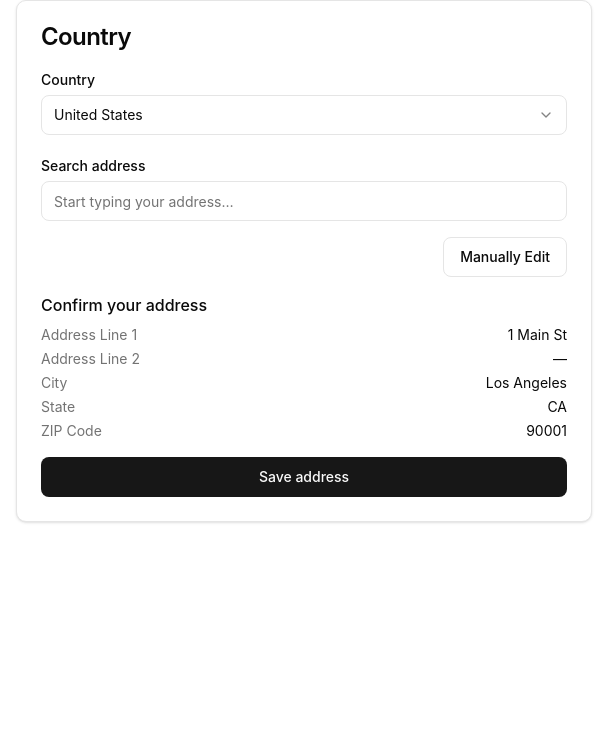
Test: AddressForm — autocomplete capture keyed to metadata (US1/US4) › keeps populated values when toggling Manually Edit
The width and height of the screenshot is (609, 756).
Click the button "Manually Edit" at (505, 257), box [443,237,567,277]
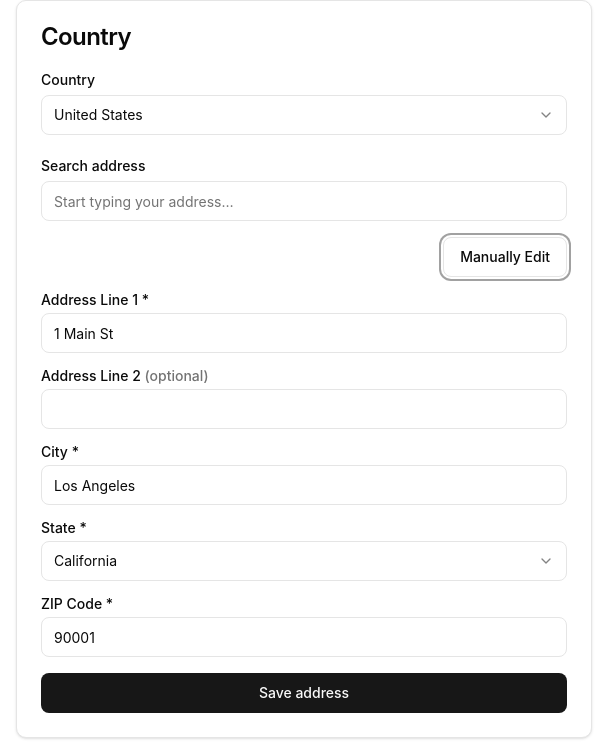
Result: the field labelled "Address Line 1 *" holds "1 Main St" at [41,313,567,353]
Result: the field labelled "City *" holds "Los Angeles" at [41,465,567,505]
Result: the field labelled "ZIP Code *" holds "90001" at [41,617,567,657]
